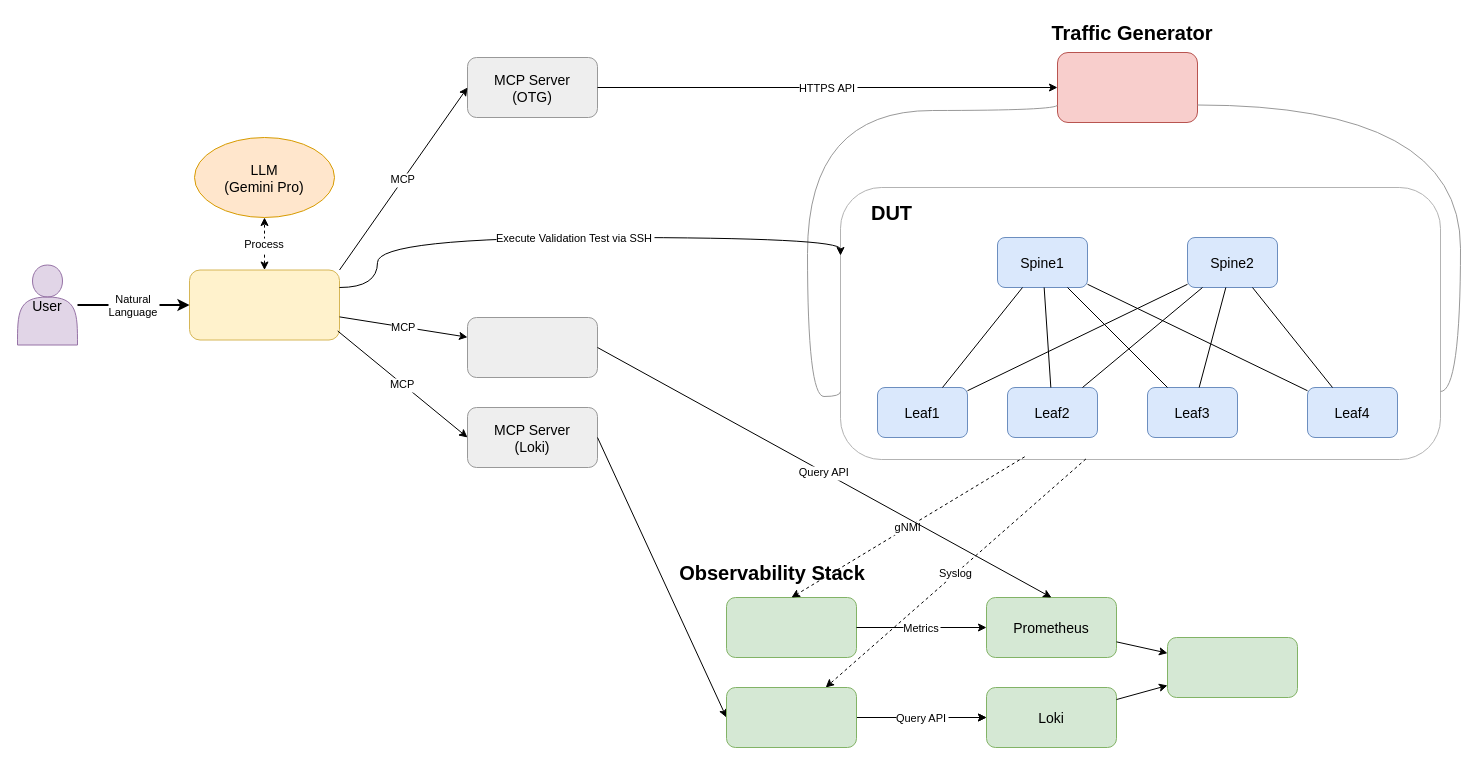
Some shapes in this 1478 by 765 pixel diagram are drawn without their labels. The shapes that lost their labels are listed below. From the top down, each one's centre as x and y in pixels, then its label:
the point at 1127,87: IXIA-c (OTG API 8443)
the point at 264,304: Antigravity IDE (MCP Client)
the point at 532,347: MCP Server (Prometheus)
the point at 791,627: gnmic (gNMI Collector)
the point at 1232,667: Grafana
the point at 791,717: Promtail
